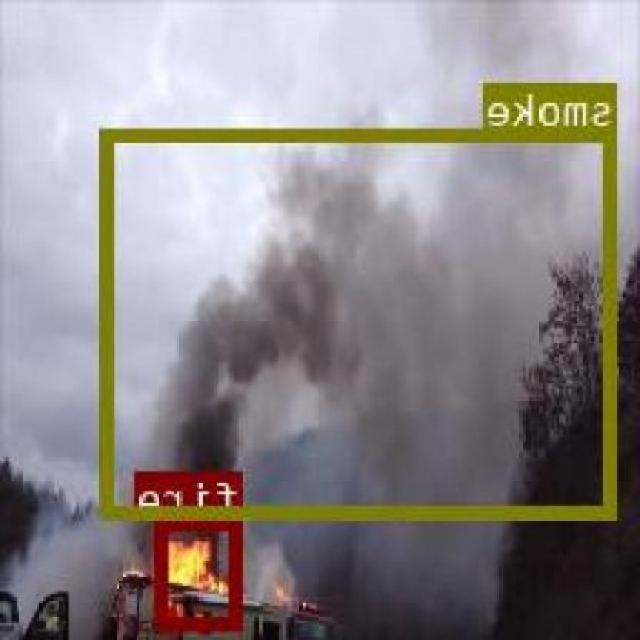Fire: (160, 514, 245, 628)
Smoke: (104, 126, 618, 517)
